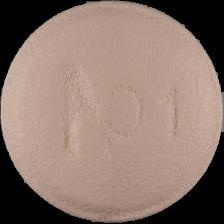0378-0501: (0, 0, 224, 224)
